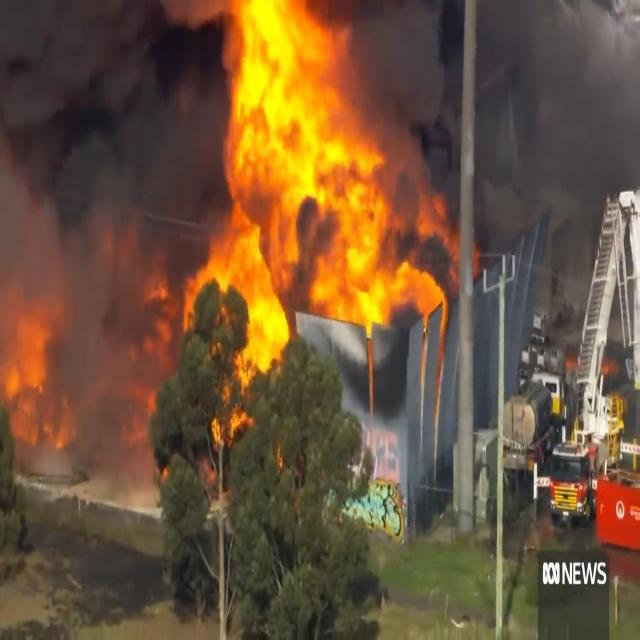fire: (212, 1, 420, 522), (0, 296, 119, 482), (134, 258, 208, 328)
